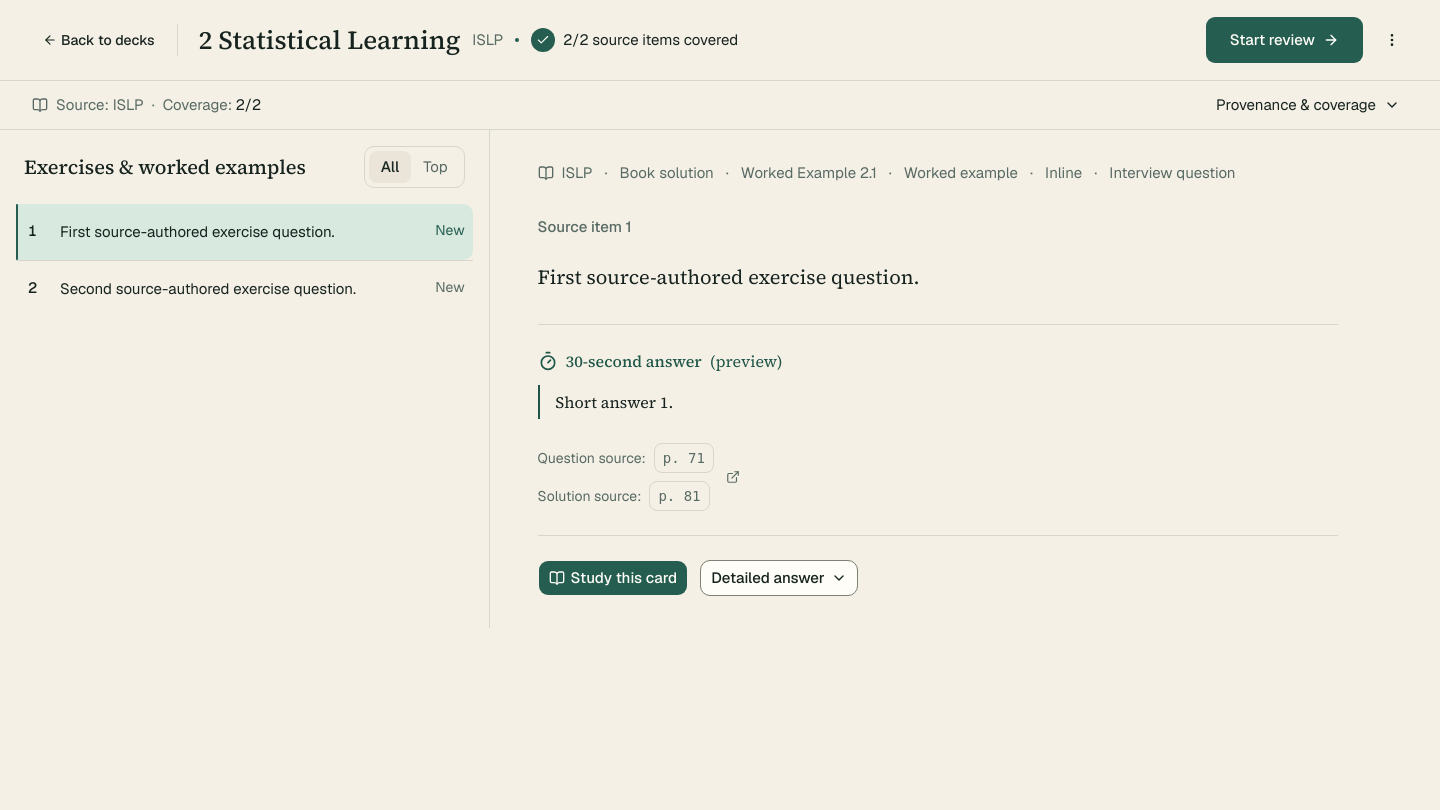
Scenario: deck question navigator › keeps provenance visible but moves generation details on demand
Check: the text "Source: ISLP" is shown, box [56,94,144,116]
Check: the text "Dropped as duplicate" is not shown
Click the button "Provenance & coverage" at [1308, 105], box [1208,87,1408,123]
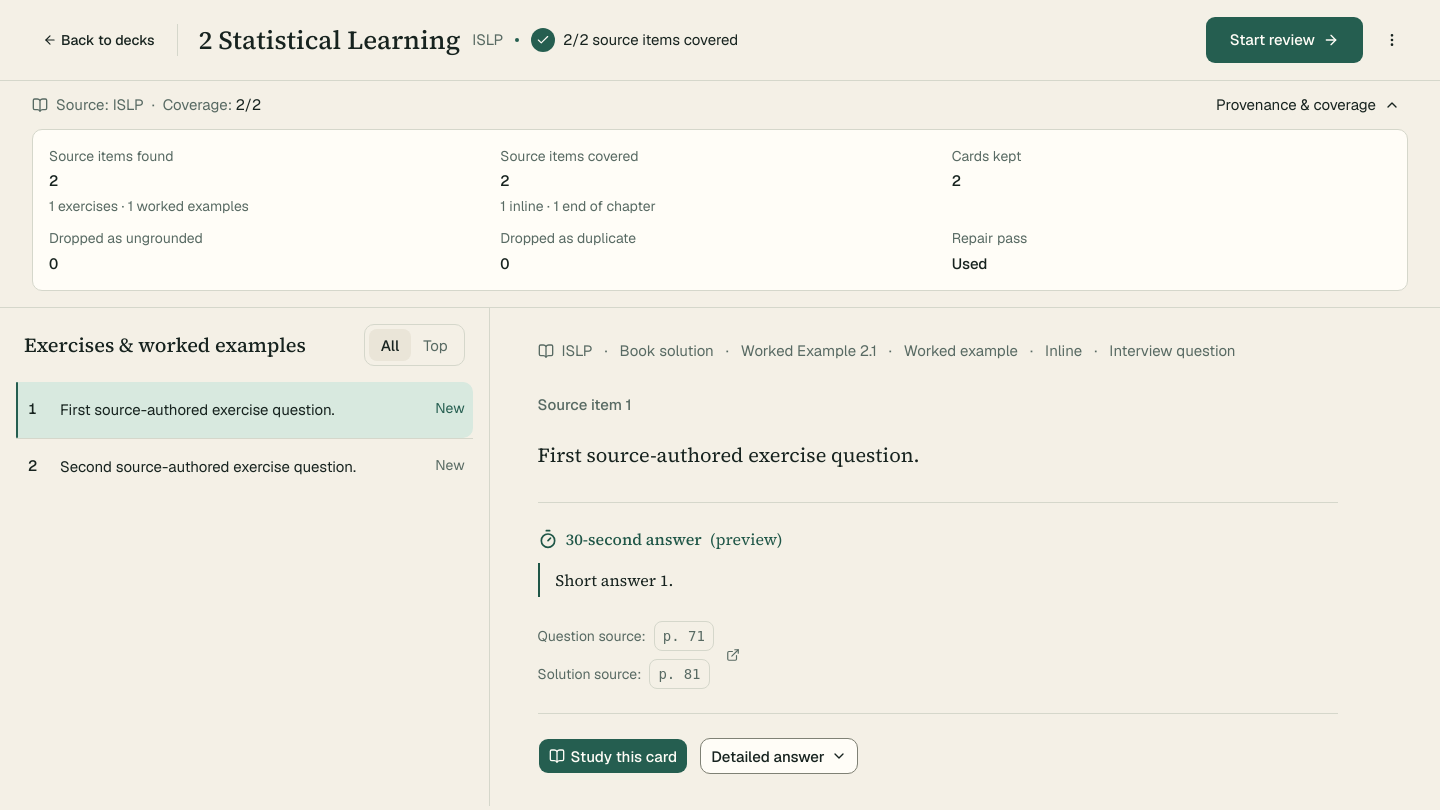
Check: the text "Source items found" is shown, box [49,147,174,165]
Check: the text "1 exercises · 1 worked examples" is shown, box [49,197,249,215]
Check: the text "1 inline · 1 end of chapter" is shown, box [500,197,656,215]
